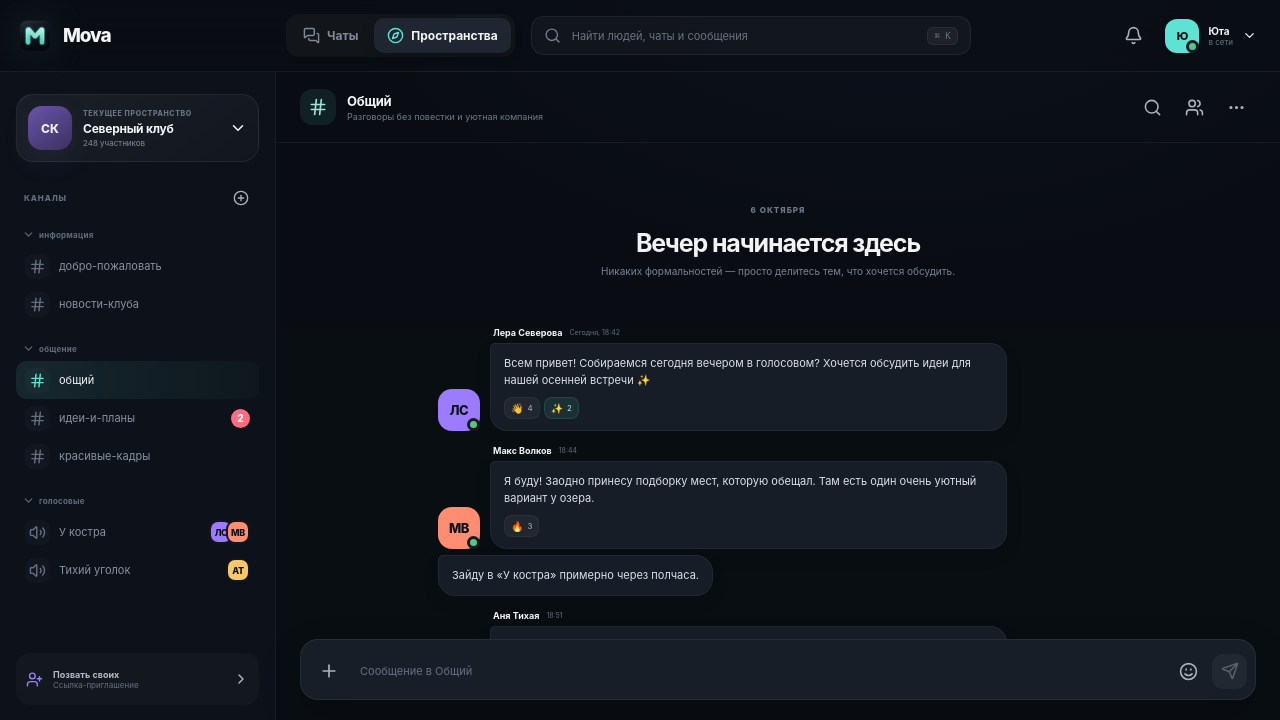
Scenario: Mova application flows › filters the chat list by person name
Click the button "Чаты" at [331, 36], box [290, 18, 371, 53]
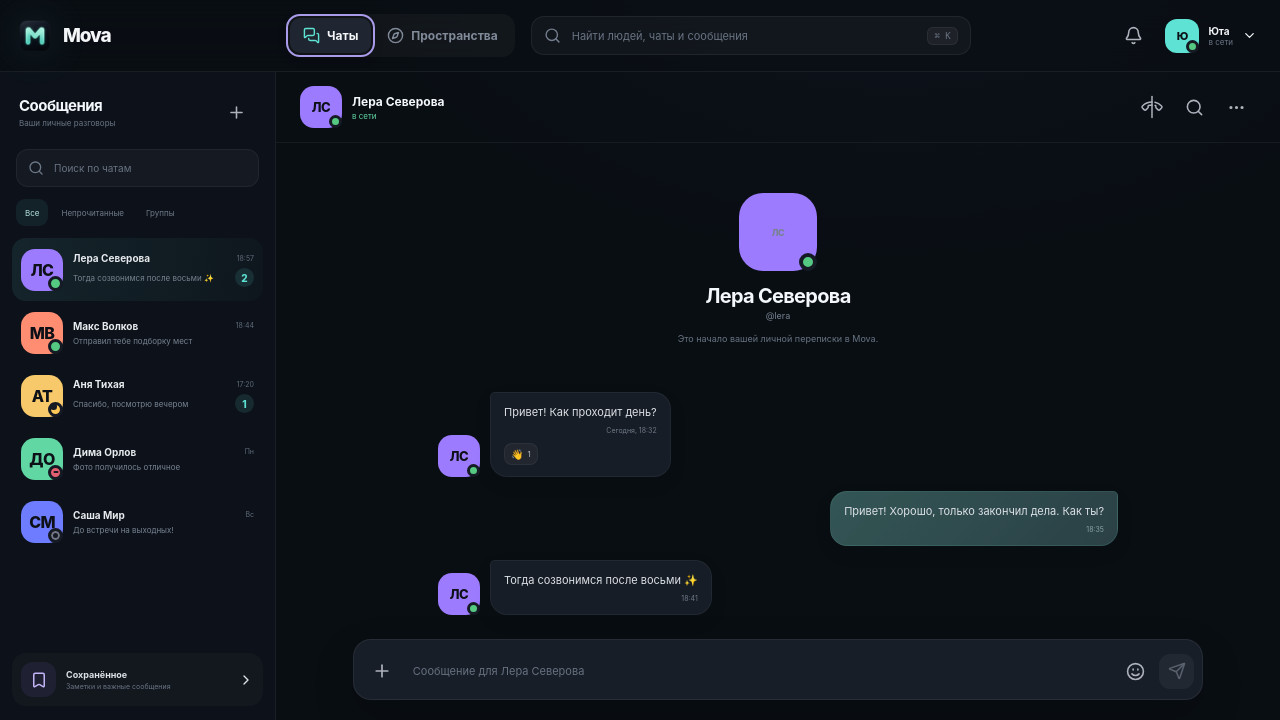
Type "Макс" into the field labelled "Поиск по чатам" at [150, 168], box [52, 161, 247, 175]
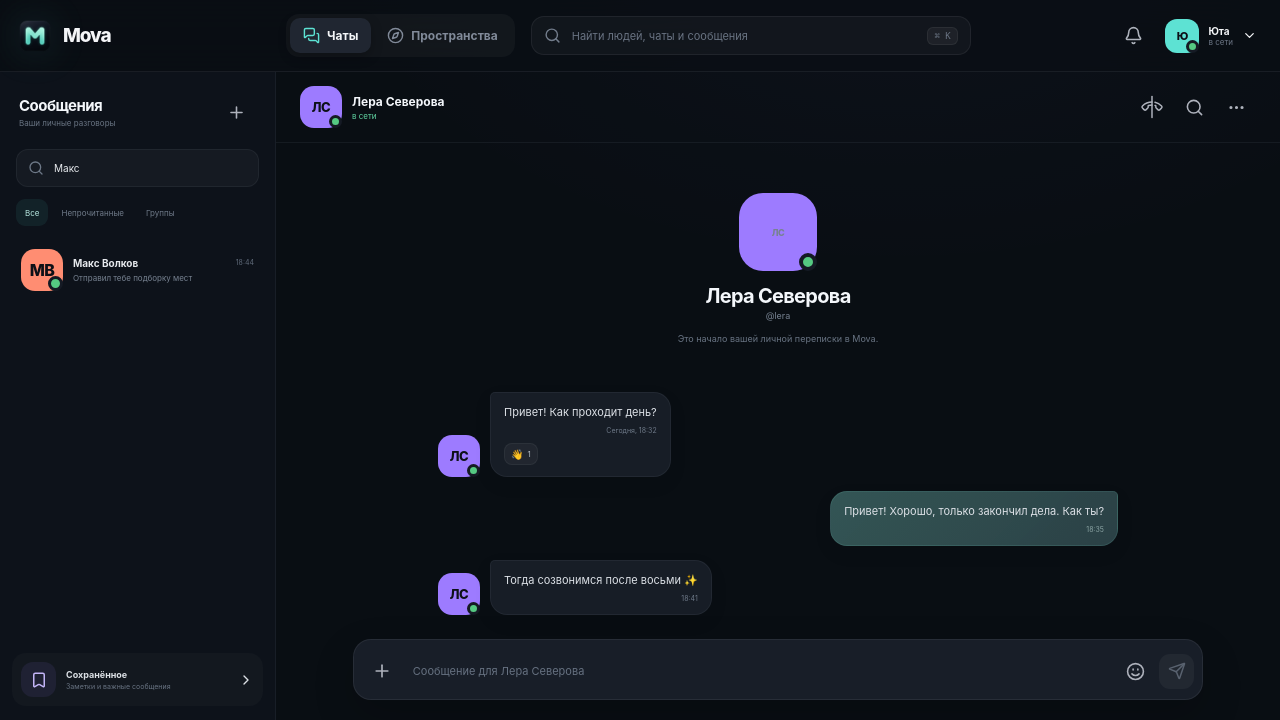
expect the button "МВ Макс Волков 18:44 Отправил тебе подборку мест" is shown: met, box [12, 238, 263, 301]
expect the button "Аня Тихая" is gone: met
